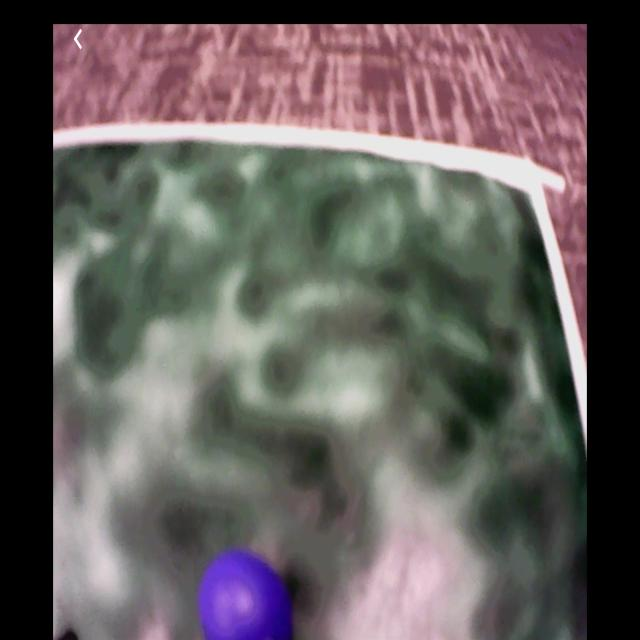ball: (200, 551, 289, 640)
